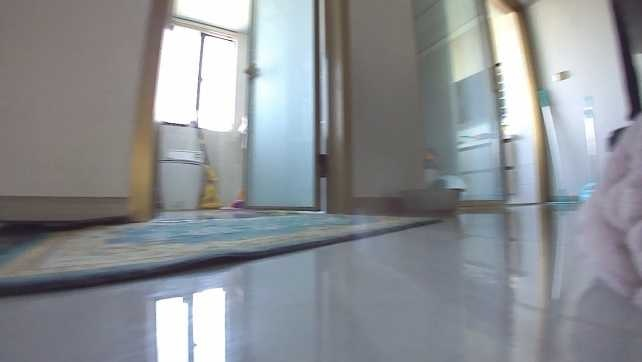blanket: (0, 216, 441, 293)
door_anno: (243, 1, 354, 214)
toilet: (154, 148, 206, 211)
